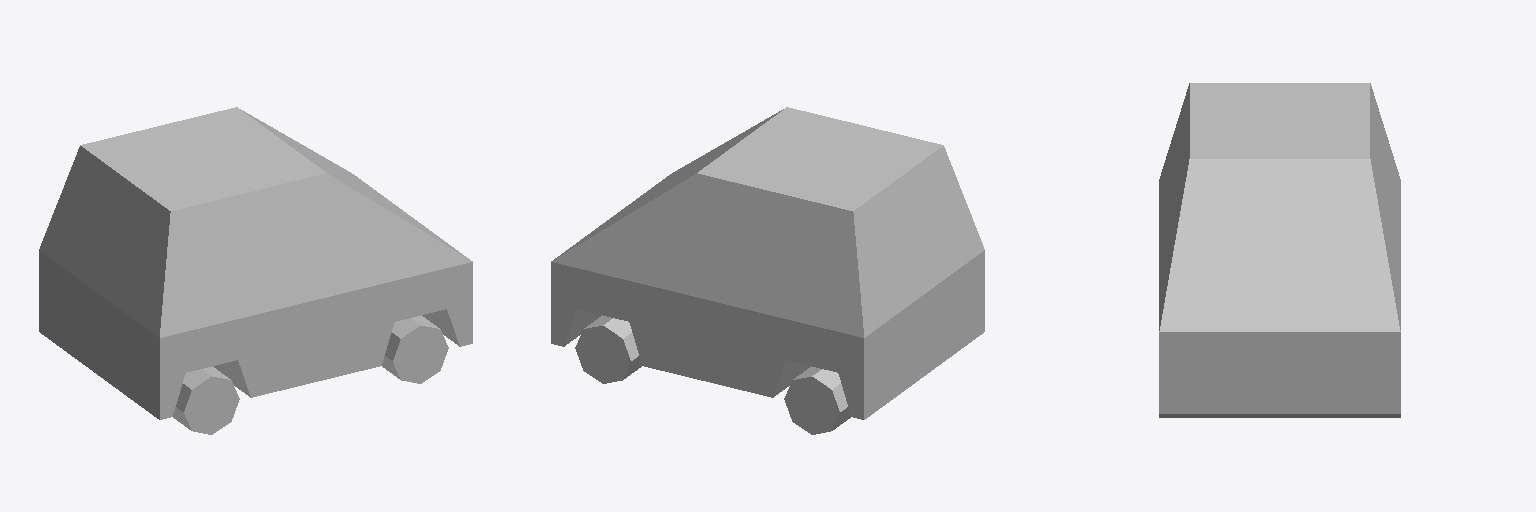
The model's file is car1.obj.
3 renders of one model, left to right at view 1: azimuth 30°, elevation 25°; view 2: azimuth 150°, elevation 25°; view 3: azimuth 270°, elevation 25°, orthographic.
Visible parts, largest first — view 1: Cylinder; view 2: Cylinder; view 3: Cylinder.
Boxes of the visible parts, box(x1,y1,x2,y2) form: Cylinder: box(39, 107, 472, 434); Cylinder: box(551, 107, 984, 434); Cylinder: box(1159, 83, 1400, 417).
Bounding box in the file's own units: 3 × 2 × 2.